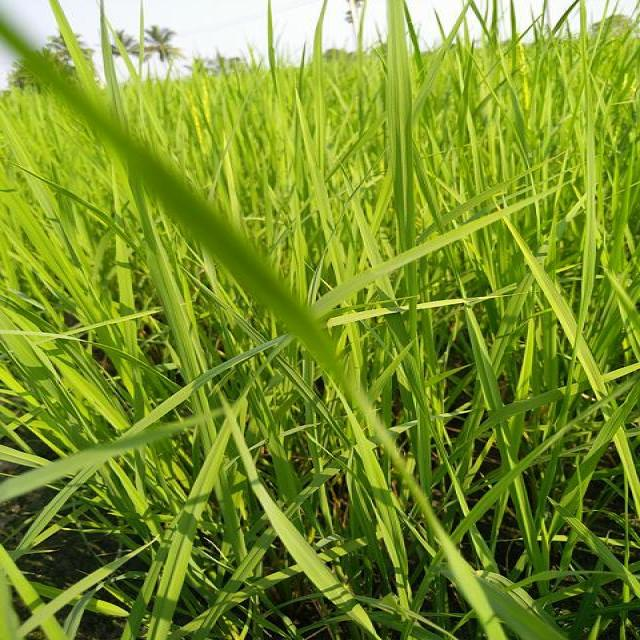Rice: (378, 289, 534, 538), (130, 182, 220, 445), (0, 534, 161, 640), (0, 178, 106, 332), (538, 384, 639, 538), (537, 208, 605, 386), (160, 441, 216, 640), (296, 93, 347, 281), (384, 0, 419, 249), (495, 205, 539, 279), (581, 95, 596, 208)
